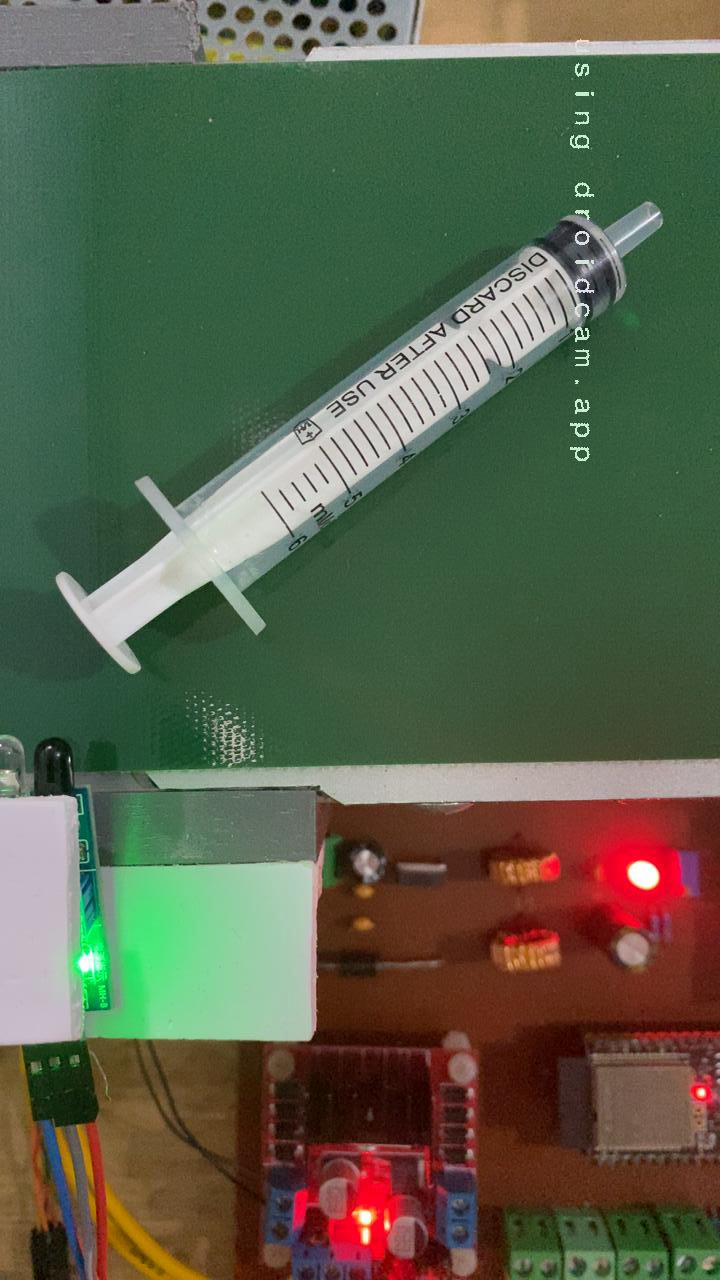syringe: (49, 196, 670, 679)
